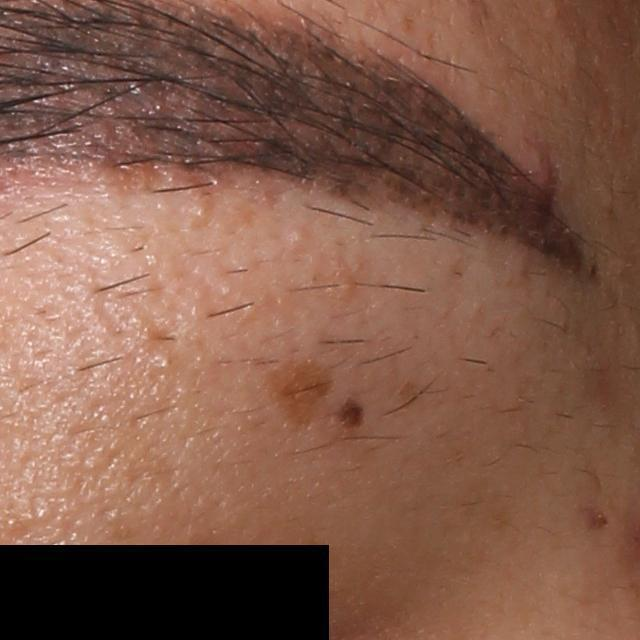comedo: (285, 226, 311, 252), (542, 1, 562, 20)
melasma: (244, 347, 372, 438)
nevus: (331, 396, 379, 440)
papule: (522, 144, 566, 199)
